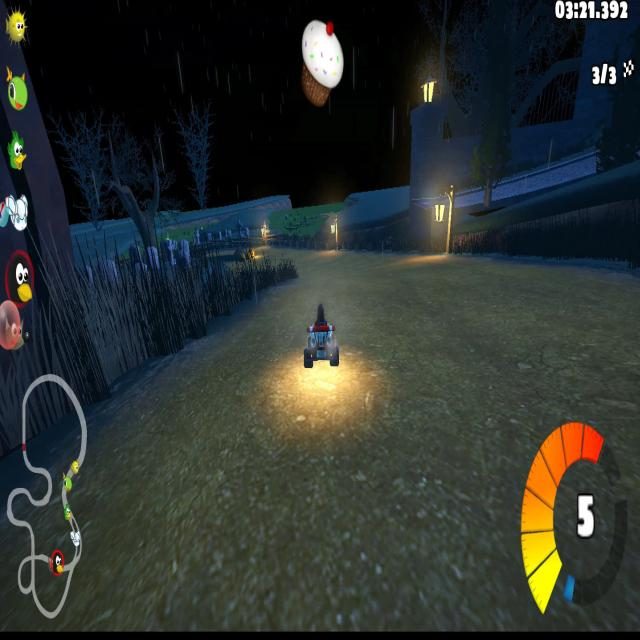player_kart: (302, 306, 339, 374)
track: (338, 310, 640, 640), (5, 466, 338, 632), (93, 370, 338, 468), (299, 266, 638, 307), (235, 310, 274, 370), (276, 278, 300, 372), (349, 248, 485, 263), (264, 244, 346, 268), (193, 329, 234, 370)
